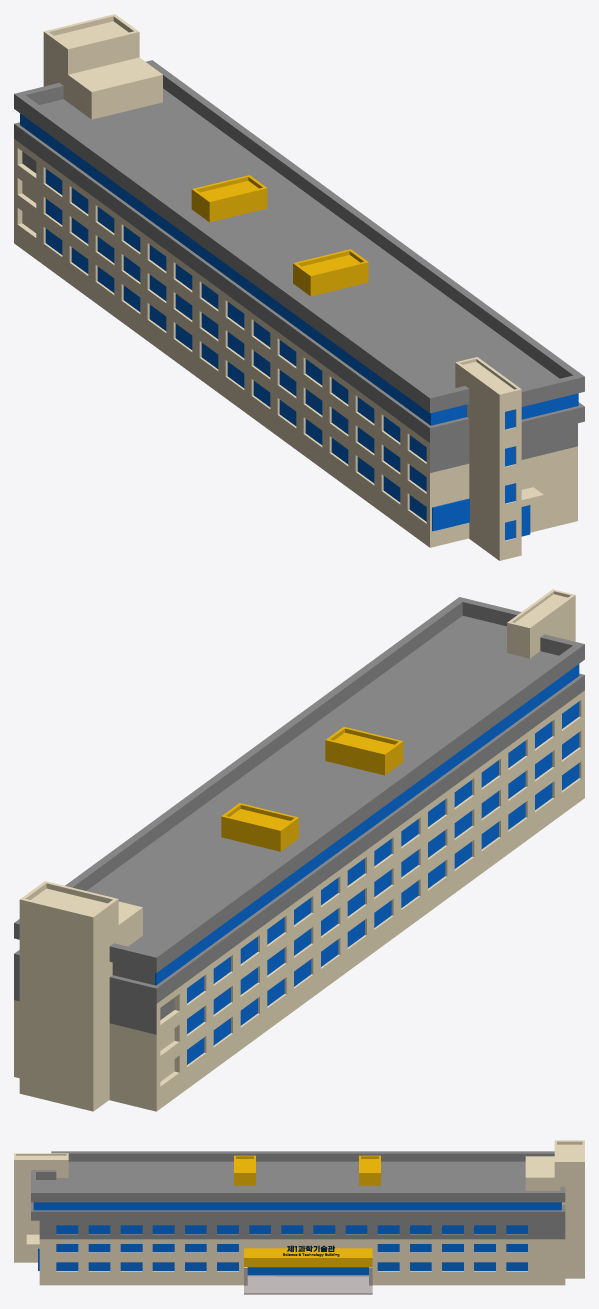
File: 제1과학기술관.fbx
The picture shows the model from 3 angles, top to bottom: view 1: azimuth 30°, elevation 25°; view 2: azimuth 150°, elevation 25°; view 3: azimuth 270°, elevation 25°; orthographic projection. The views are drawn at different scales.
Parts seen in each view (by area): view 1: 제1과학기술관, Cube_2, Cube_42, Cube_43, Cube_5, Cube_13, Cube_4, Cube_12, Cube_3, Cube_15, Cube_14, Cube_1; view 2: 제1과학기술관, Cube_5, Cube_42, Cube_43, Cube_2, Cube_3, Cube_4, Cube_12, Cube_15, Cube_14, Cube_13; view 3: 제1과학기술관, Cube_42, Cube_43, Cube_5, Cube_2, Cube_12, Cube_15, Cube_13, Cube_14, Cube_4, Cube_3, Extrude_1.
Part boxes in pixels (x1=…): 제1과학기술관: x1=14, y1=60, x2=584, y2=547; Cube_2: x1=455, y1=357, x2=521, y2=560; Cube_42: x1=45, y1=169, x2=426, y2=491; Cube_43: x1=20, y1=113, x2=578, y2=425; Cube_5: x1=43, y1=14, x2=139, y2=101; Cube_13: x1=67, y1=57, x2=162, y2=119; Cube_4: x1=191, y1=175, x2=267, y2=222; Cube_12: x1=279, y1=400, x2=469, y2=531; Cube_3: x1=293, y1=249, x2=368, y2=296; Cube_15: x1=149, y1=304, x2=270, y2=406; Cube_14: x1=45, y1=228, x2=140, y2=311; Cube_1: x1=505, y1=409, x2=515, y2=540; 제1과학기술관: x1=14, y1=597, x2=584, y2=1111; Cube_5: x1=19, y1=881, x2=118, y2=1111; Cube_42: x1=187, y1=701, x2=579, y2=1033; Cube_43: x1=154, y1=664, x2=579, y2=985; Cube_2: x1=507, y1=589, x2=575, y2=658; Cube_3: x1=325, y1=727, x2=403, y2=775; Cube_4: x1=221, y1=803, x2=298, y2=851; Cube_12: x1=428, y1=763, x2=579, y2=888; Cube_15: x1=294, y1=880, x2=418, y2=986; Cube_14: x1=187, y1=978, x2=284, y2=1064; Cube_13: x1=117, y1=901, x2=142, y2=946; 제1과학기술관: x1=26, y1=1151, x2=565, y2=1294; Cube_42: x1=56, y1=1225, x2=527, y2=1252; Cube_43: x1=33, y1=1202, x2=561, y2=1210; Cube_5: x1=554, y1=1140, x2=584, y2=1278; Cube_2: x1=14, y1=1153, x2=68, y2=1262; Cube_12: x1=56, y1=1262, x2=238, y2=1270; Cube_15: x1=247, y1=1267, x2=368, y2=1275; Cube_13: x1=525, y1=1156, x2=555, y2=1190; Cube_14: x1=377, y1=1262, x2=527, y2=1270; Cube_4: x1=359, y1=1155, x2=380, y2=1185; Cube_3: x1=234, y1=1155, x2=255, y2=1185; Extrude_1: x1=287, y1=1245, x2=334, y2=1251.
Bounding box in the file's own units: 355 × 379 × 1668.
